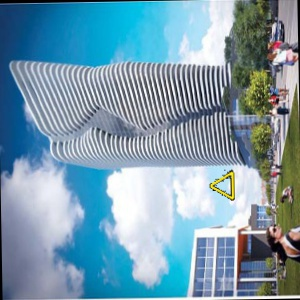triangle: (207, 169, 238, 202)
